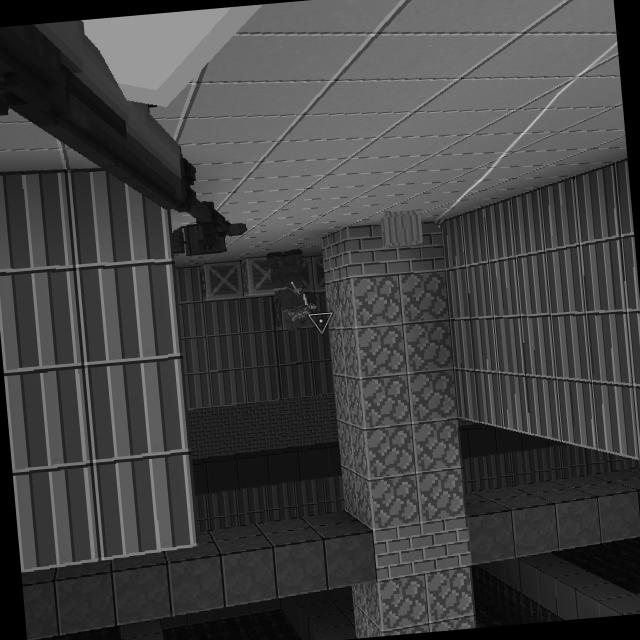enemy: (268, 247, 311, 334)
